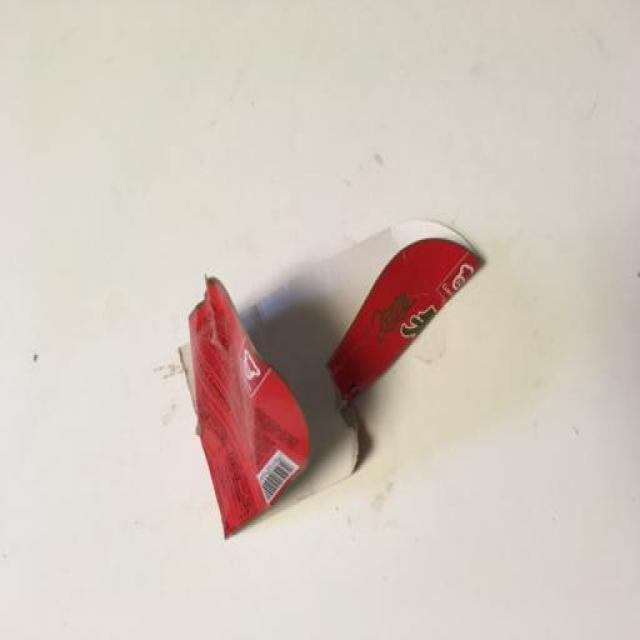paper: (140, 195, 512, 582)
